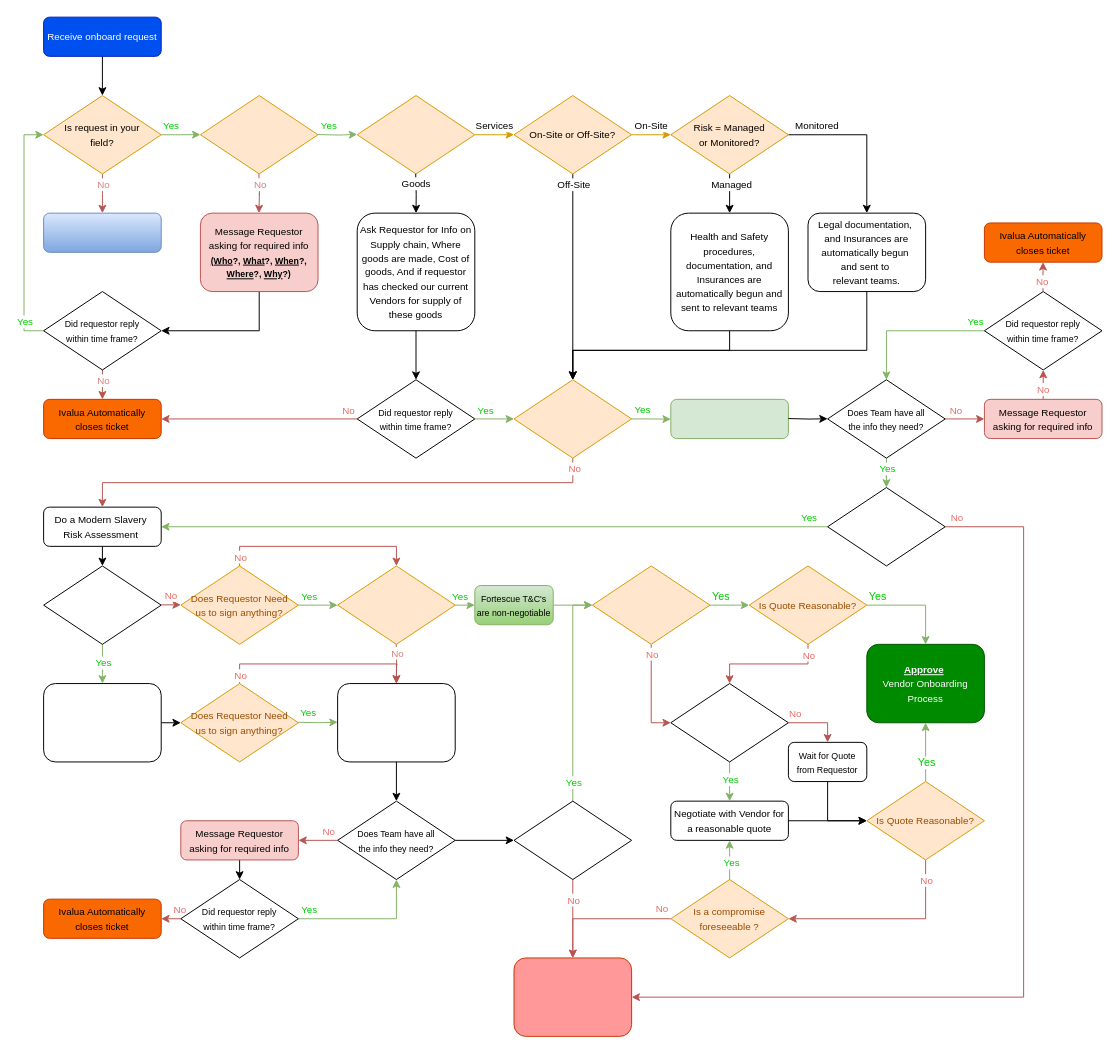
Image size: 1119x1054. Some labels were removed from this diagram. The centre of each missing label's shape, as x and y in pixels:
Are all required fields entered correctly?: [258,134]
Ask Legal Team for guidance on next steps of approval process: [396,722]
Ask said team for guidance on next steps of approval process: [729,418]
Assign to correct C&P team-member: [102,232]
Does Legal Approve Onboarding Vendor?: [572,840]
Does request relate to internal teams expertise?: [572,418]
Does Requestor have a quote?: [650,604]
Does Requestor need help negotiating ?: [729,722]
Does Team Approve Onboarding Vendor?: [886,526]
Goods or Services?: [415,134]
Governance team is notified of this Vendors future onboarding process: [102,722]
Is the cost <$2M: [396,604]
Is the Vendor high risk?: [102,604]
Write Close Notes and Reject Vendor Onboarding Process: [572,996]
